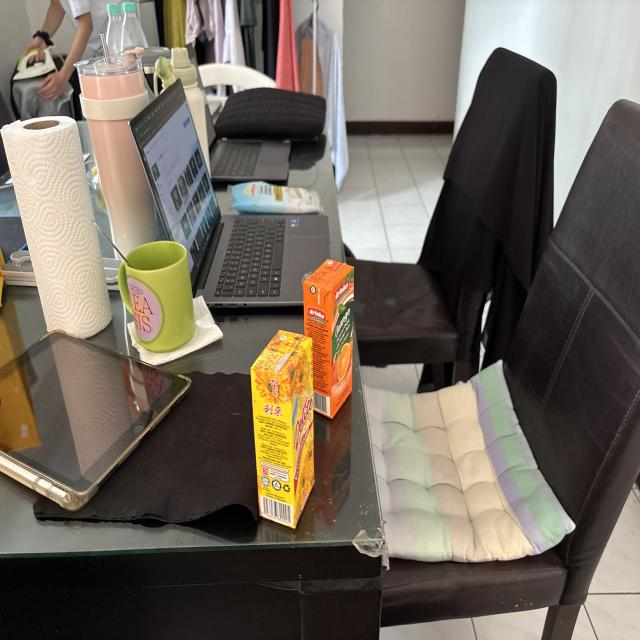drink_carton: (243, 322, 323, 536), (300, 253, 358, 421)
